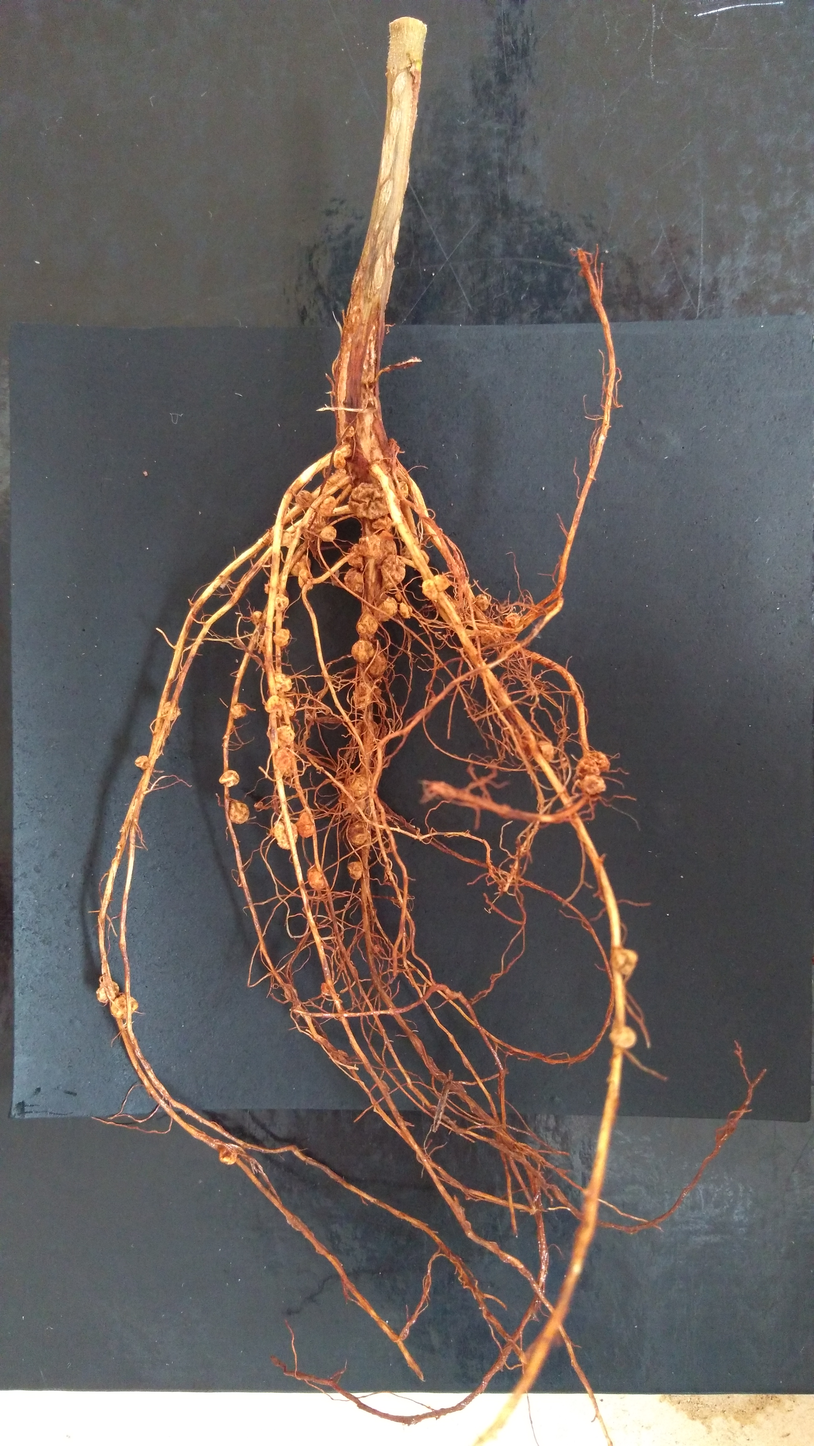nodule: (347, 481, 390, 519), (436, 598, 471, 632), (576, 750, 611, 777), (381, 554, 407, 590), (609, 947, 639, 976), (301, 511, 329, 540), (110, 993, 139, 1020), (377, 529, 398, 566), (371, 595, 398, 623), (273, 819, 298, 849), (352, 718, 380, 743), (608, 1025, 637, 1049), (275, 746, 297, 777), (580, 771, 608, 795), (358, 534, 383, 560), (356, 610, 379, 638), (365, 649, 387, 678), (342, 567, 365, 594), (95, 980, 120, 1004), (479, 622, 501, 649), (352, 682, 373, 710), (344, 773, 368, 797), (351, 640, 375, 664), (227, 799, 250, 824), (295, 811, 315, 839), (289, 553, 312, 577), (346, 820, 367, 846), (503, 612, 521, 641), (342, 794, 366, 815), (347, 543, 365, 570), (307, 867, 327, 891), (318, 494, 338, 517), (537, 739, 554, 765), (160, 700, 181, 721), (272, 672, 293, 693), (275, 725, 295, 747), (264, 695, 287, 714), (371, 514, 394, 532), (422, 578, 439, 602), (219, 1145, 238, 1166), (218, 770, 240, 788), (369, 460, 391, 478), (272, 628, 291, 648), (295, 489, 314, 508), (412, 549, 430, 569), (278, 697, 295, 718), (297, 568, 313, 590), (320, 524, 338, 543), (347, 860, 364, 880), (433, 574, 451, 592), (274, 593, 290, 613), (475, 593, 491, 613), (395, 480, 410, 501), (230, 702, 247, 720), (376, 723, 390, 744), (398, 601, 413, 620), (333, 450, 346, 470), (278, 529, 292, 547), (135, 755, 150, 771), (399, 544, 414, 560), (369, 447, 385, 462), (287, 530, 300, 548), (320, 981, 333, 996), (250, 611, 262, 625), (345, 425, 355, 438), (380, 1080, 390, 1092), (371, 942, 380, 955), (394, 591, 403, 601), (334, 468, 346, 475), (264, 583, 271, 594), (254, 801, 263, 809)
